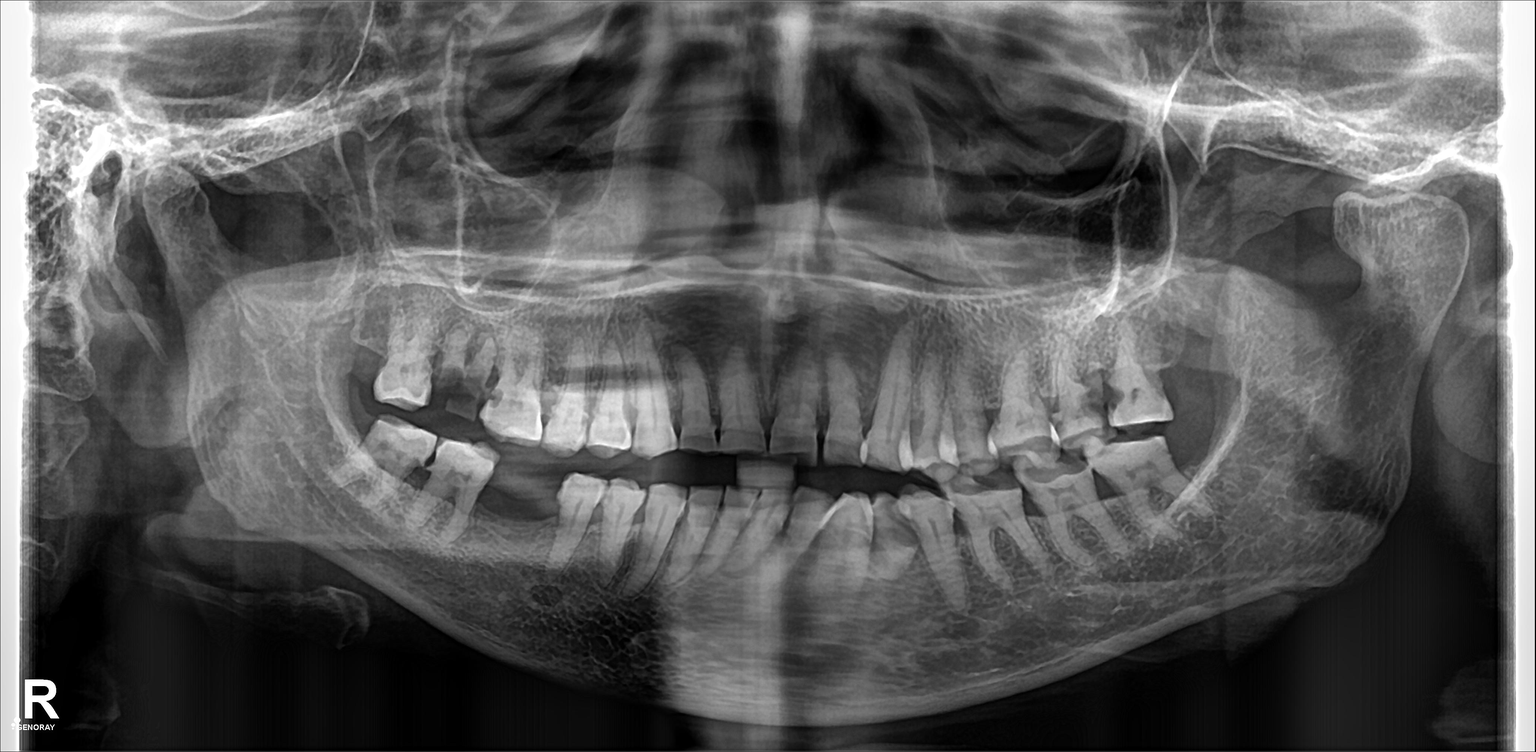Dental Caries: (438, 365, 486, 411), (1078, 387, 1140, 416)
Missing Tooth: (1156, 331, 1216, 425), (492, 462, 523, 573), (341, 309, 383, 390), (529, 478, 556, 569)
